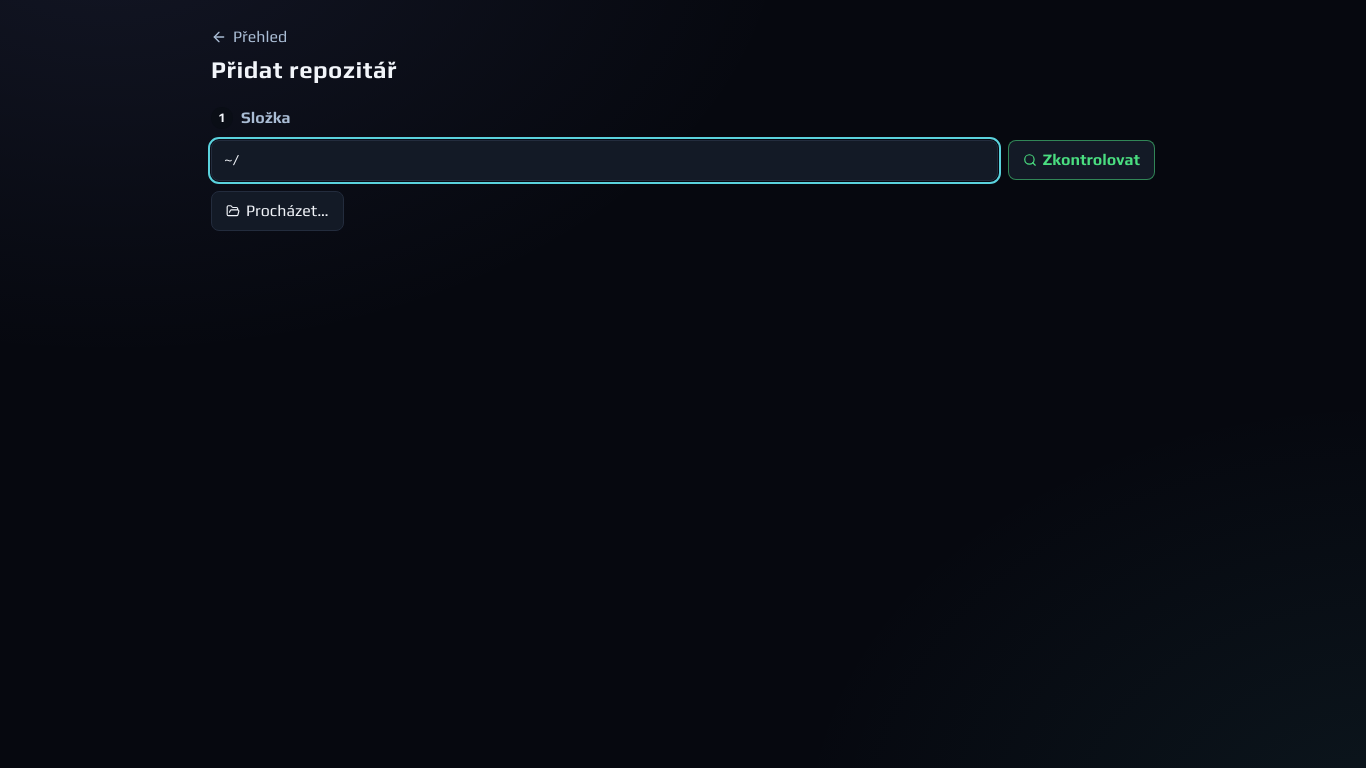
it: ReposAddView › adds through a pull request when the base takes no direct push
Replace the text in the dropdown with test id "add-path" with "/w/repo" at [604, 160], box [211, 140, 998, 180]
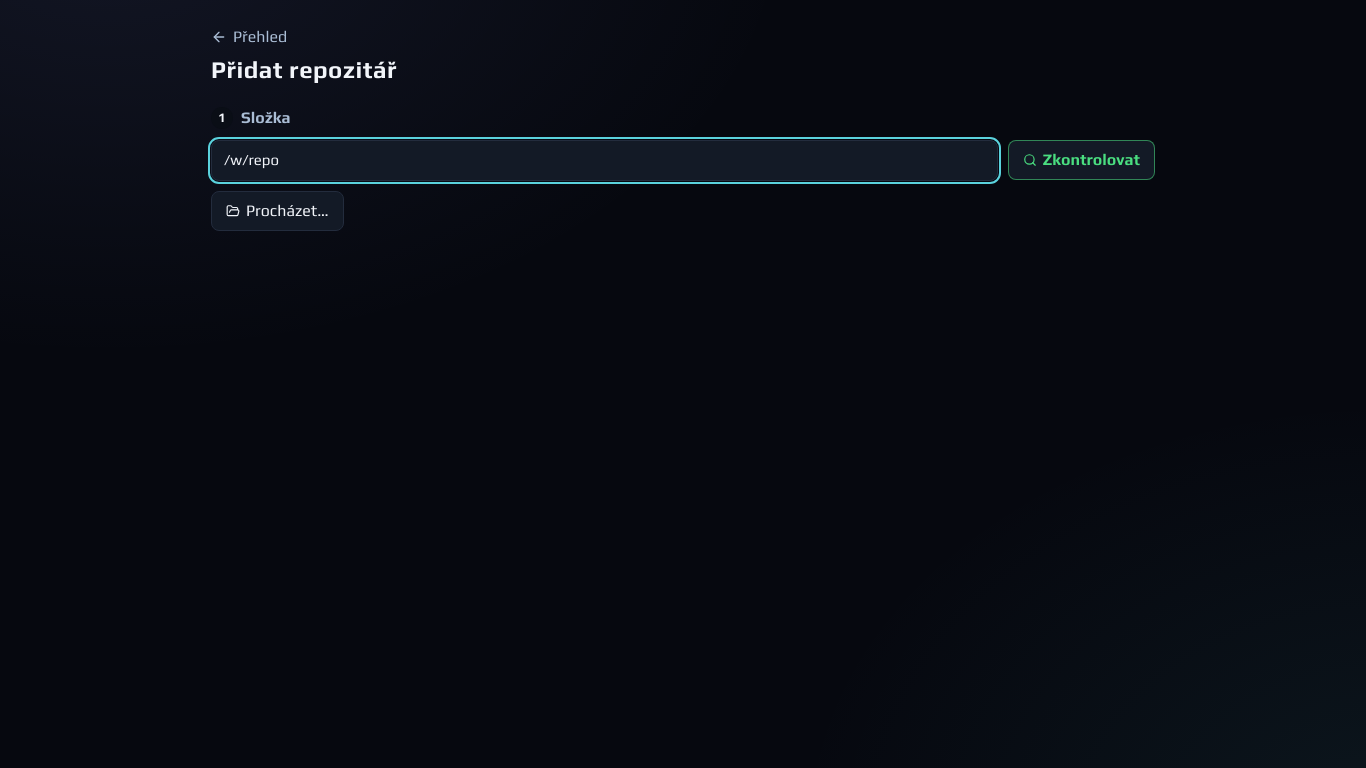
Click the button with test id "add-inspect" at [1081, 160], box [1008, 140, 1155, 180]
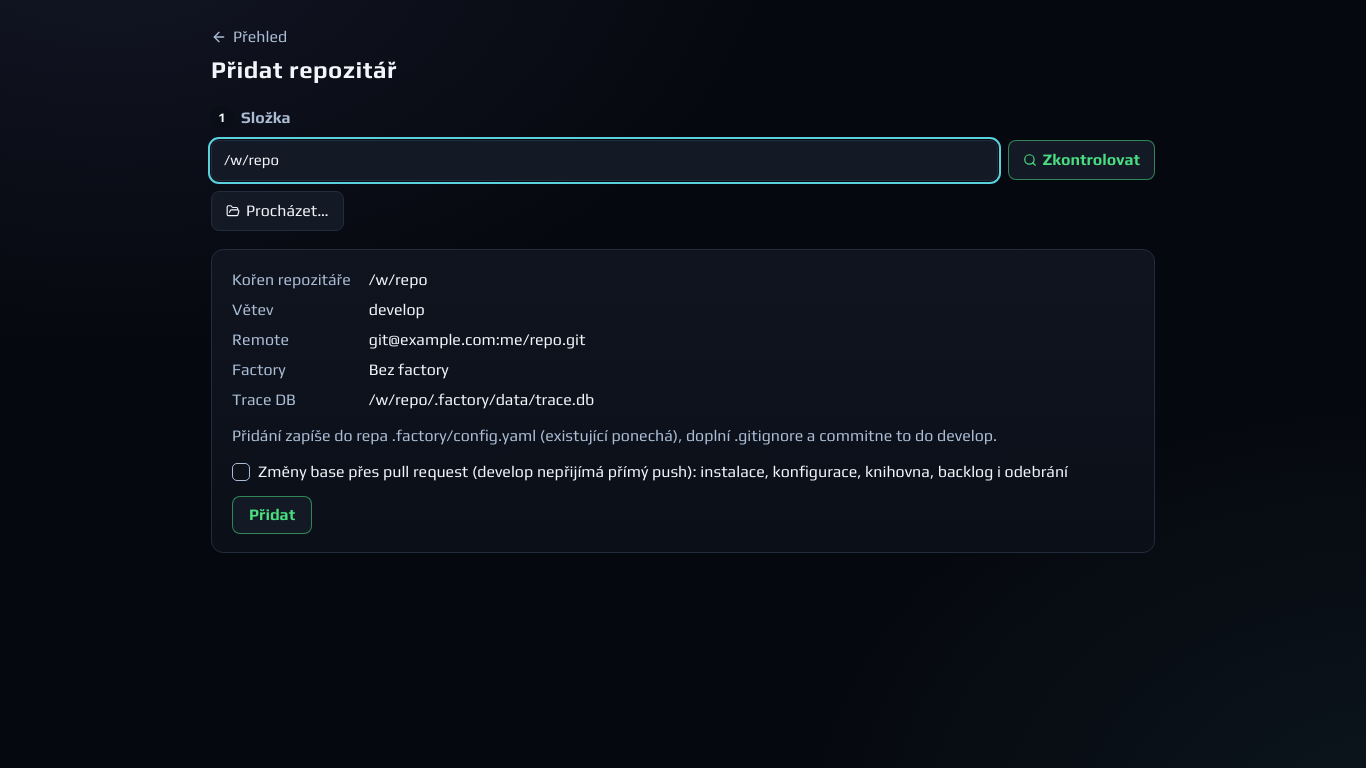
Click the checkbox at [241, 472], box [232, 462, 250, 480]
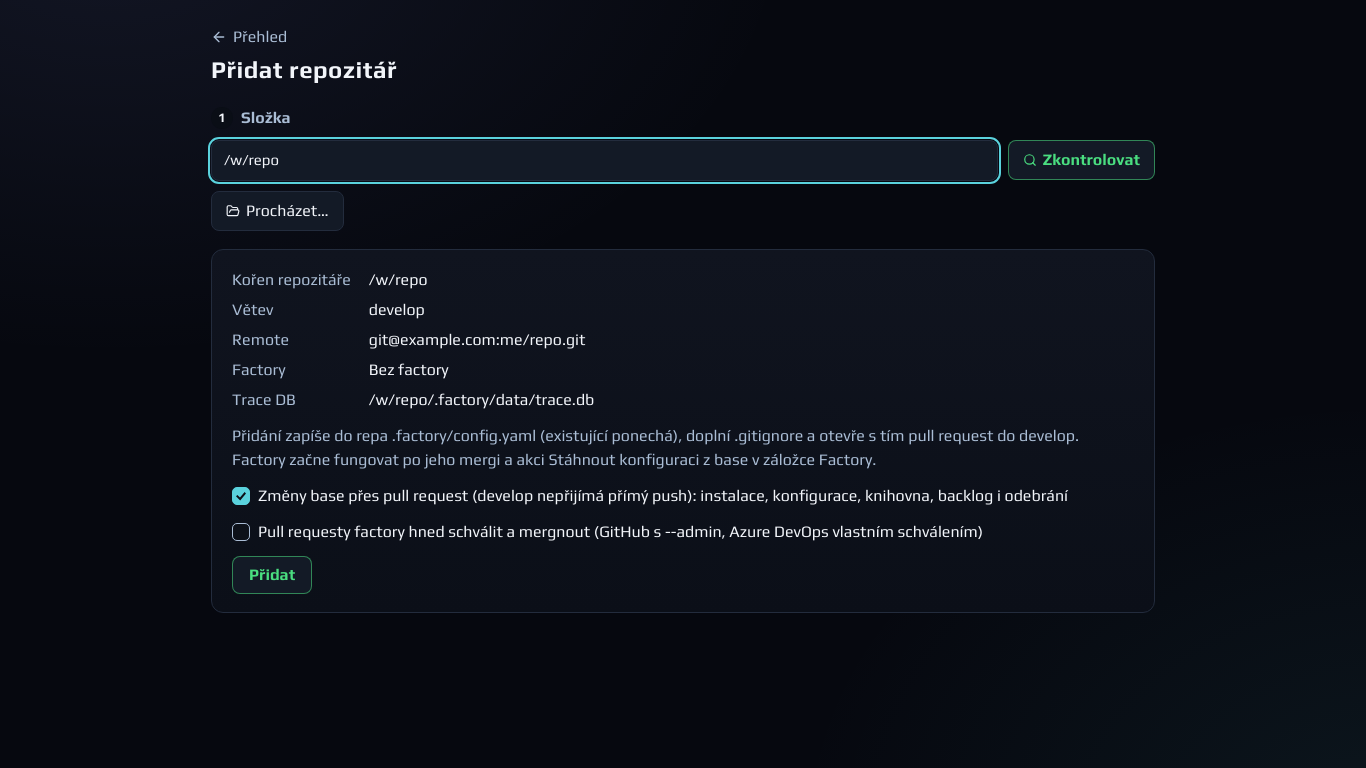
Now the text with test id "inspect-install-note" shows "otevře s tím pull request do develop", box [232, 426, 1079, 468]
Click the button with test id "inspect-add" at [272, 574], box [232, 556, 312, 594]
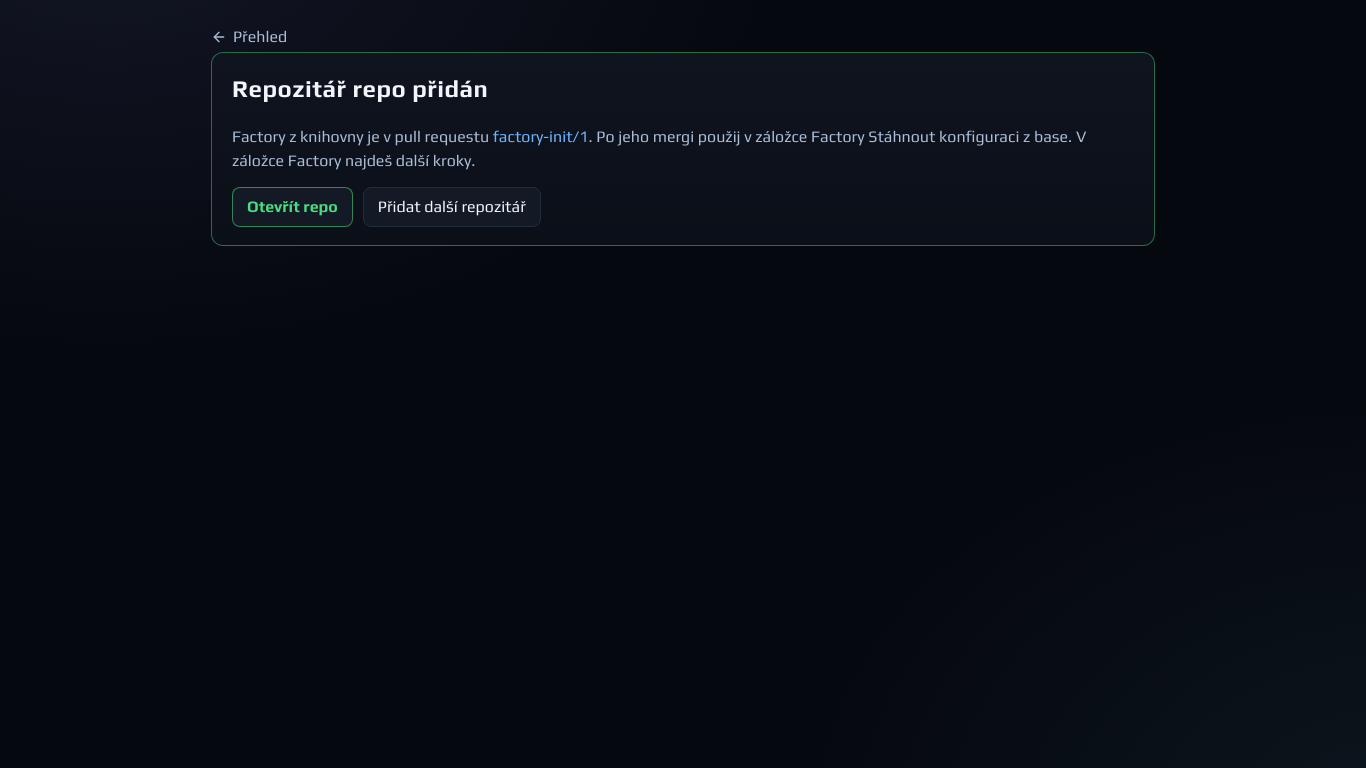
Now the element with test id "repo-added-install" shows "Stáhnout konfiguraci z base", box [589, 127, 1072, 146]
